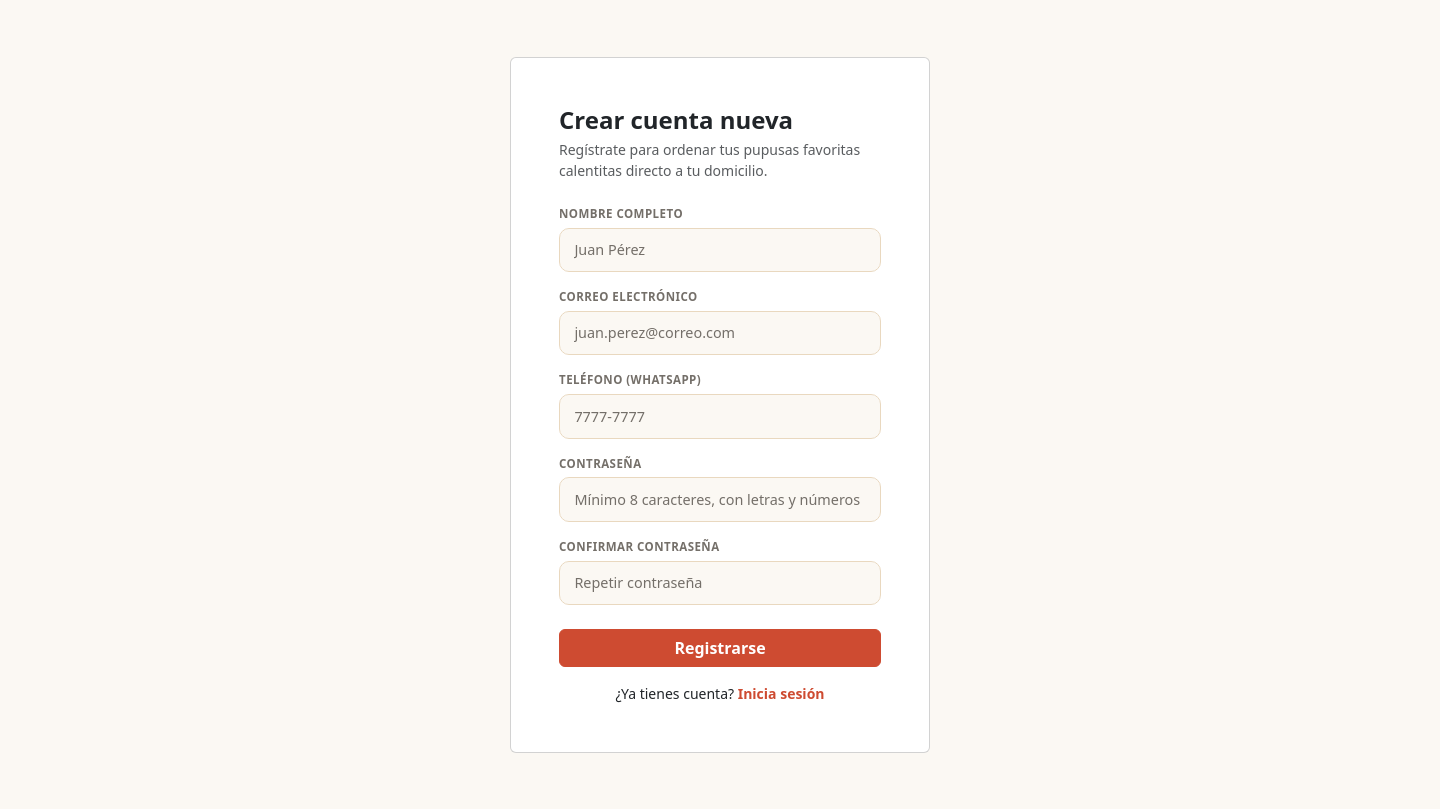
Test: Registro › crea la cuenta, inicia la sesión, avisa y lleva a Mis pedidos
In the field labelled "Nombre Completo": (720, 250) top-left (559, 228), bottom-right (881, 272), type "Ana Martínez"
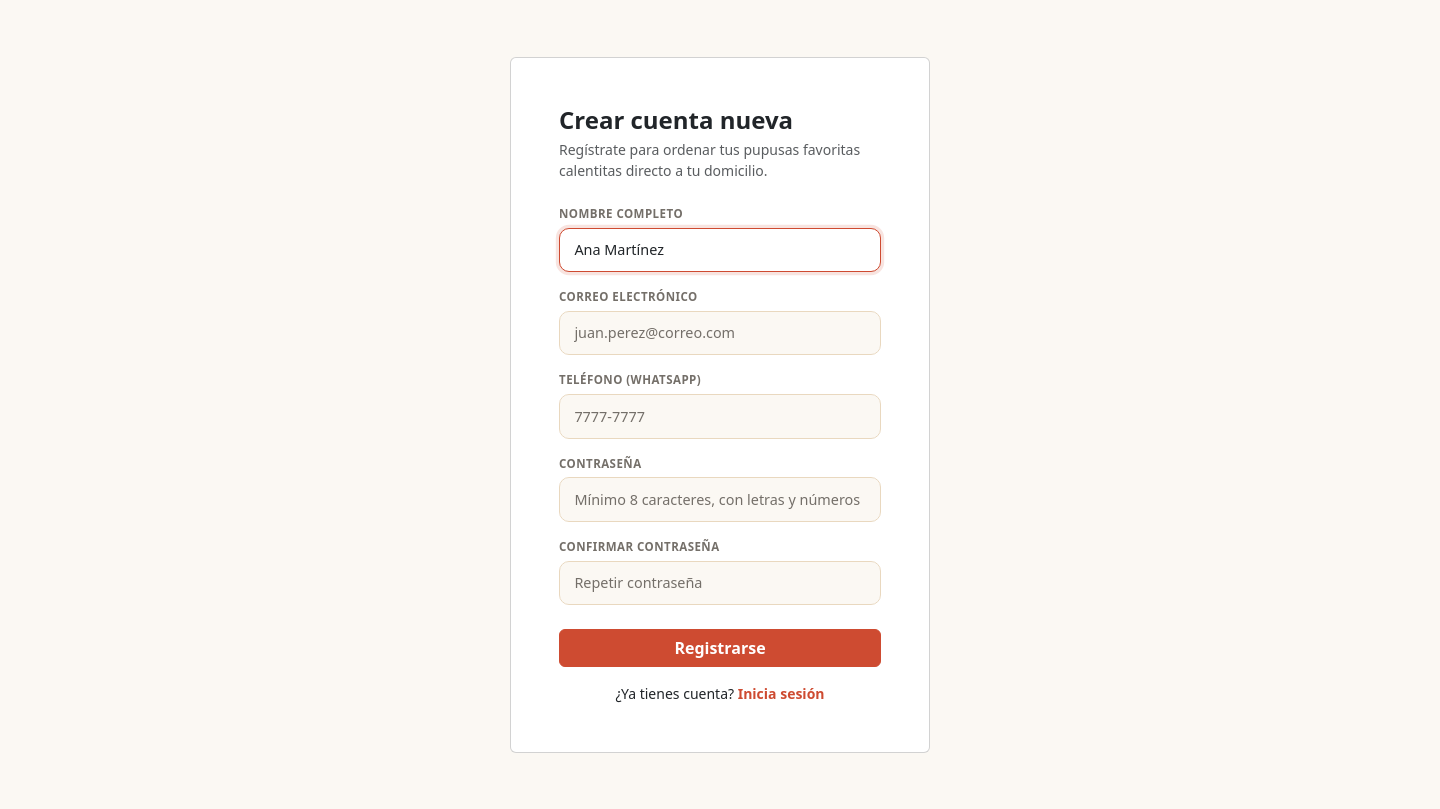
In the field labelled "Correo Electrónico": (720, 333) top-left (559, 311), bottom-right (881, 355), type "Ana@Correo.com"
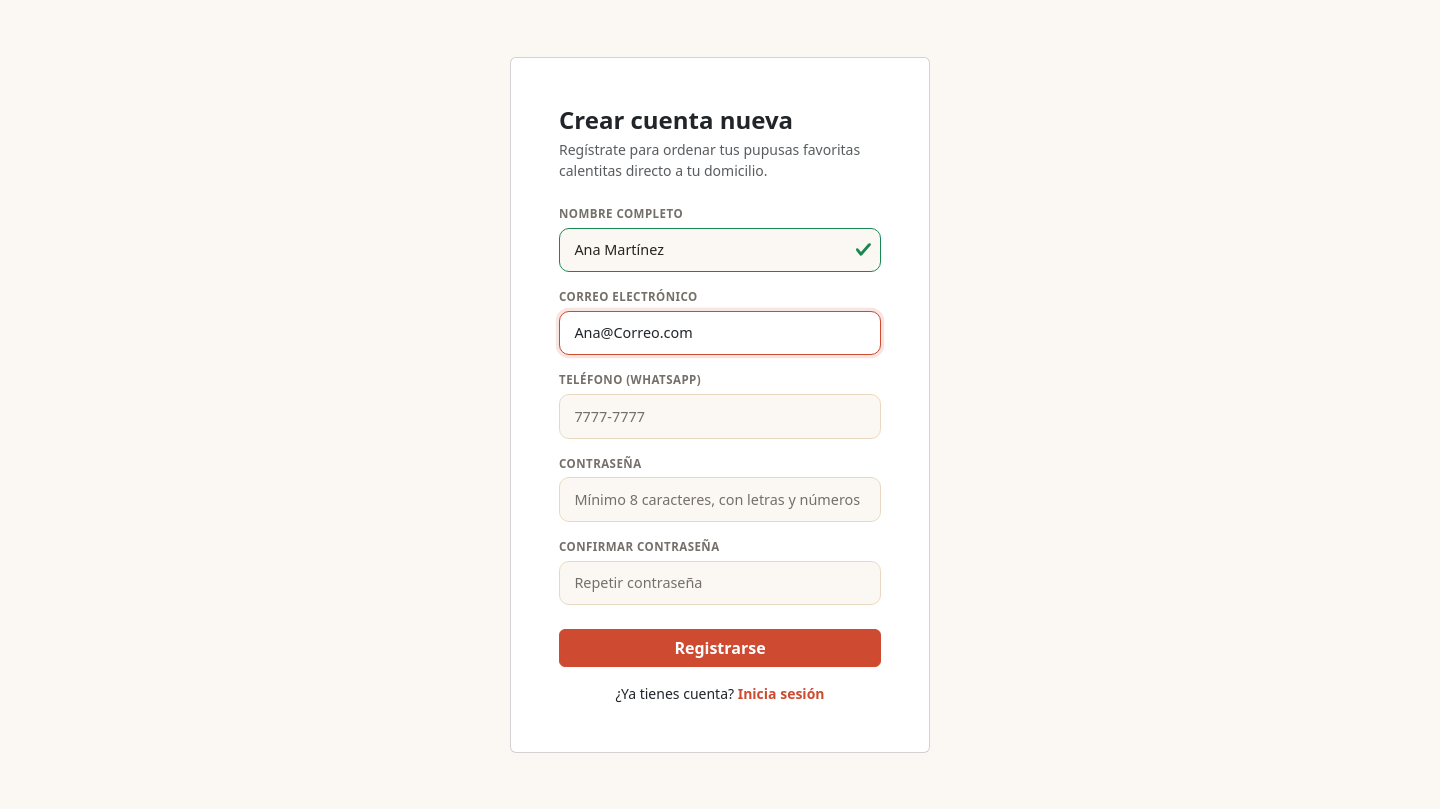
In the field labelled "Teléfono (WhatsApp)": (720, 416) top-left (559, 394), bottom-right (881, 438), type "78901234"
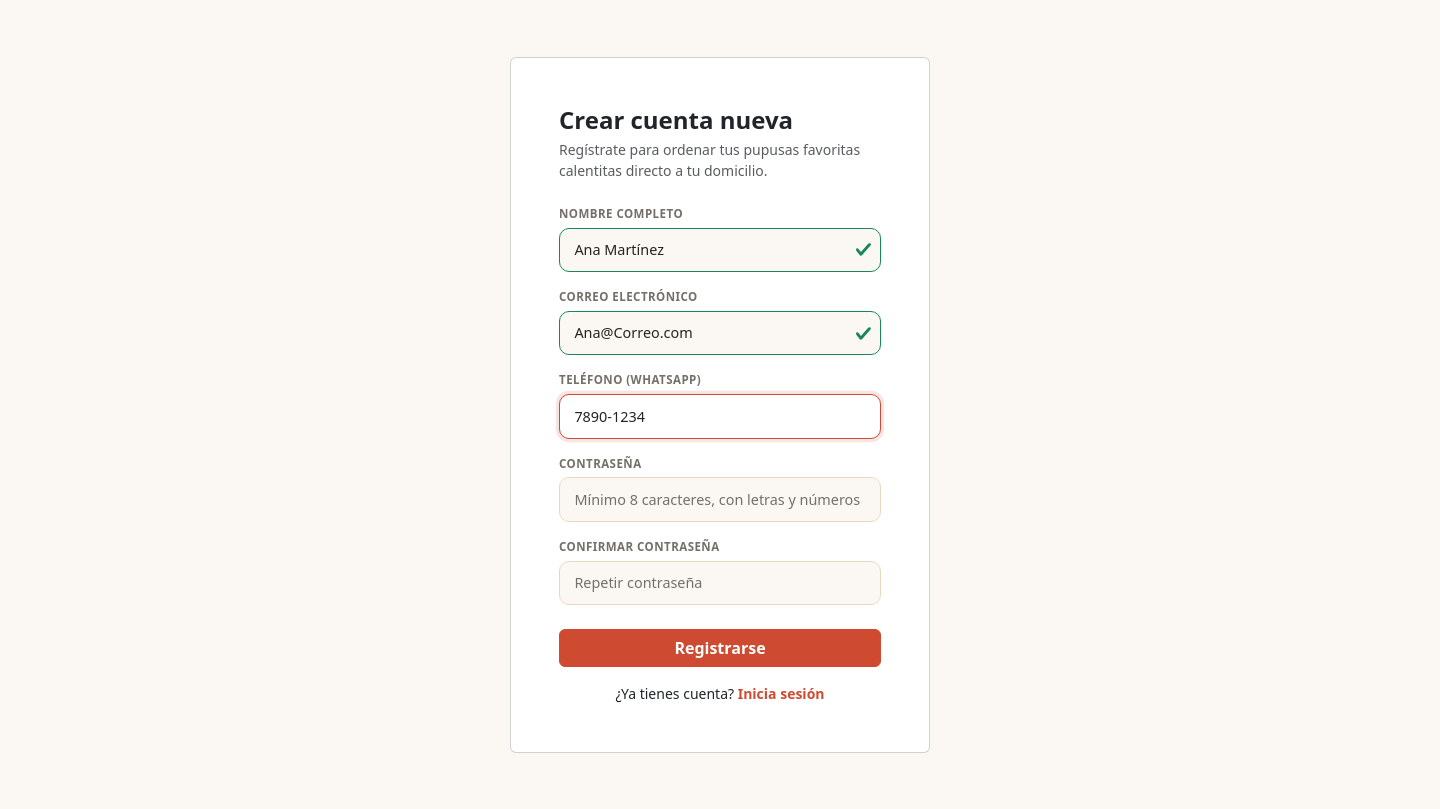
In the password field labelled "Contraseña": (720, 500) top-left (559, 477), bottom-right (881, 522), type "Cliente123"
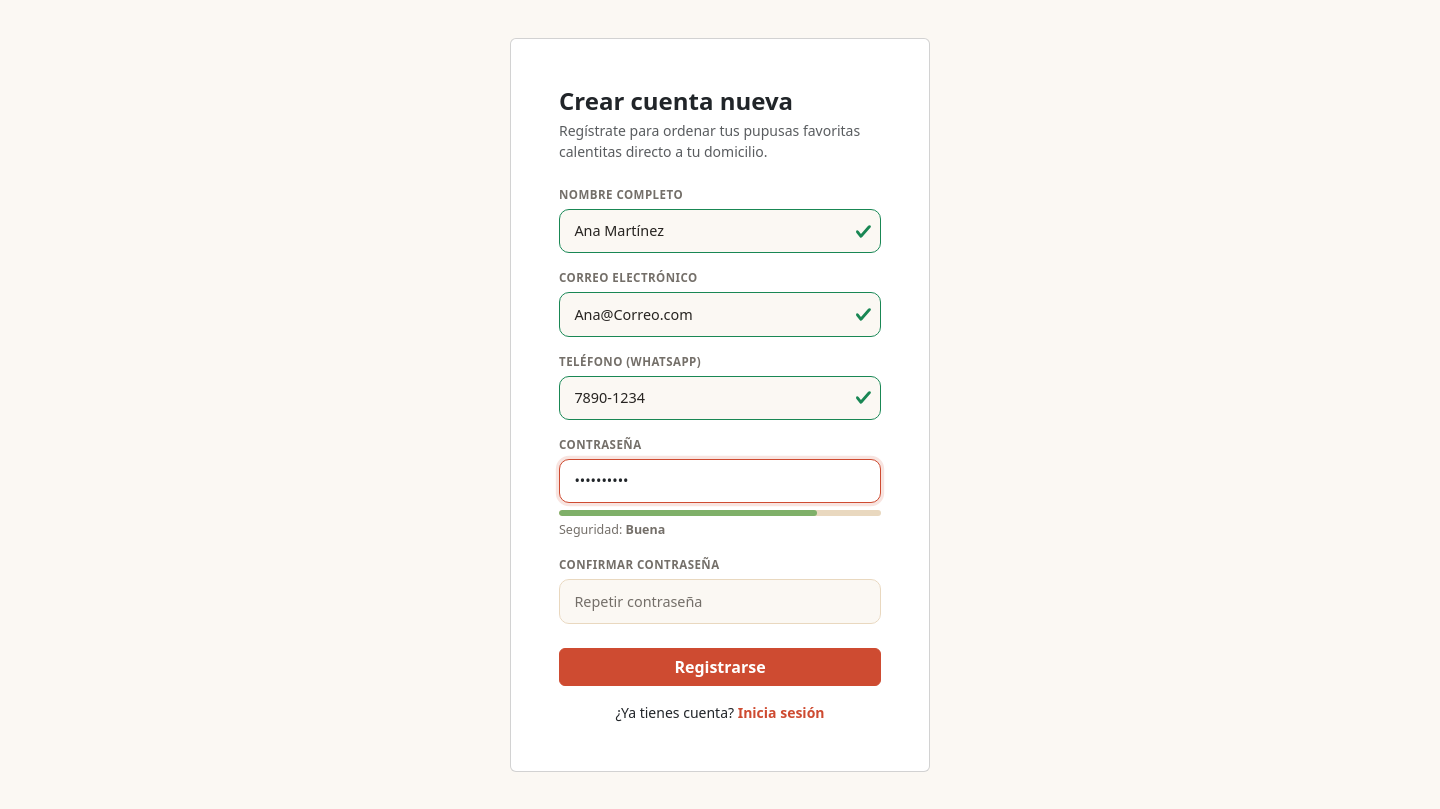
In the password field labelled "Confirmar Contraseña": (720, 601) top-left (559, 579), bottom-right (881, 624), type "Cliente123"
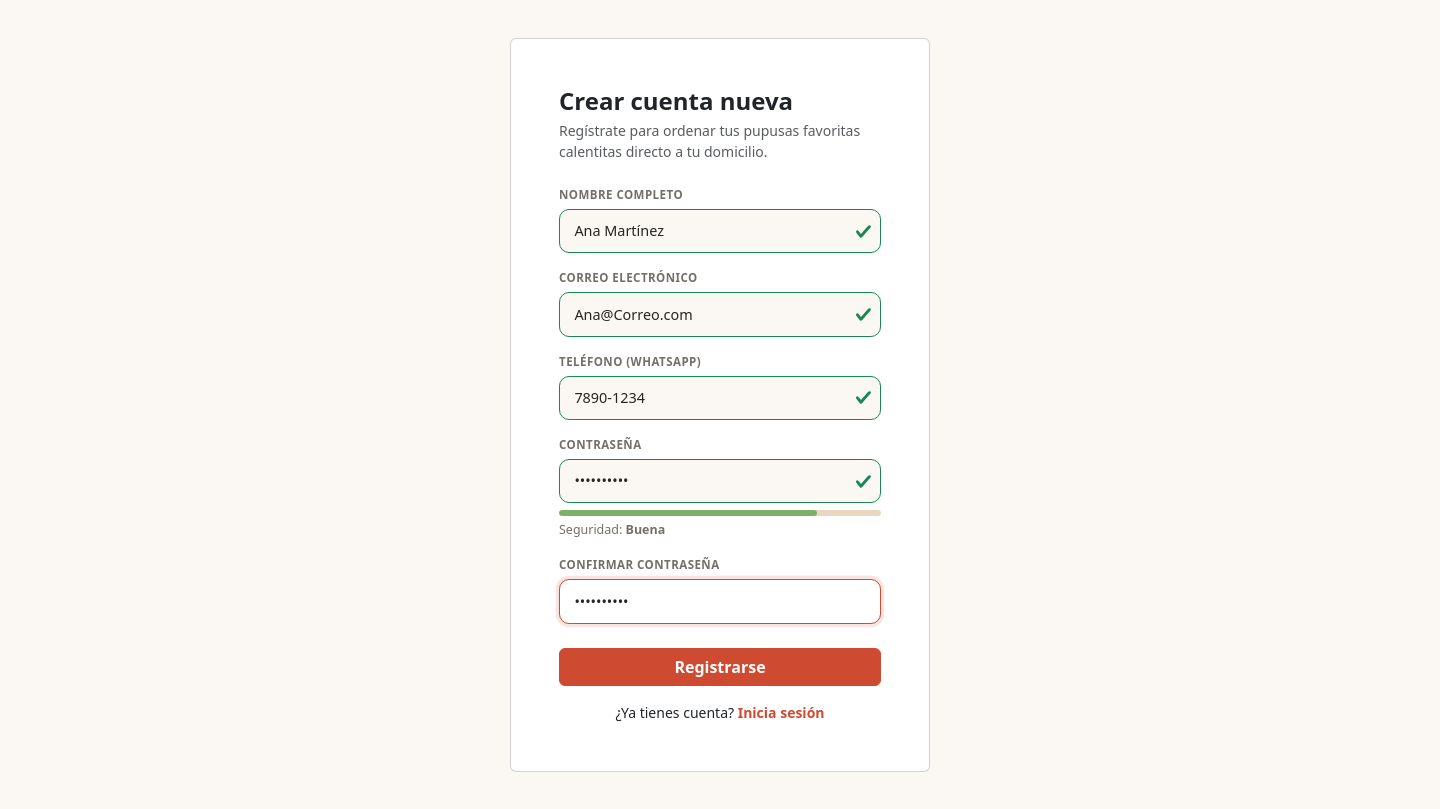
Click the button "Registrarse": (720, 666) top-left (559, 648), bottom-right (881, 686)
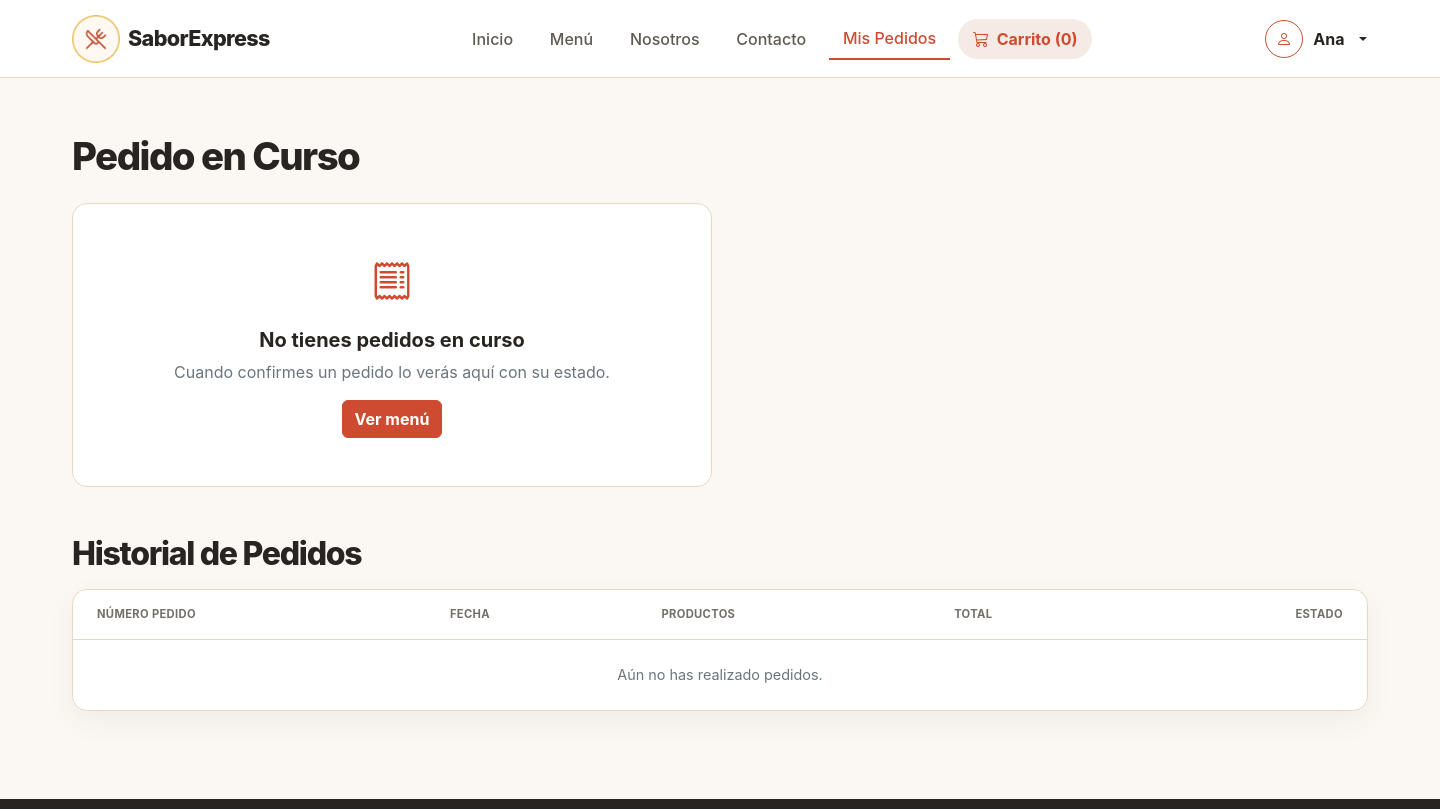
Expected: the heading "Pedido en Curso" is shown, top-left (72, 133), bottom-right (359, 179)
Expected: the button "Ana" is shown, top-left (1264, 18), bottom-right (1368, 58)
